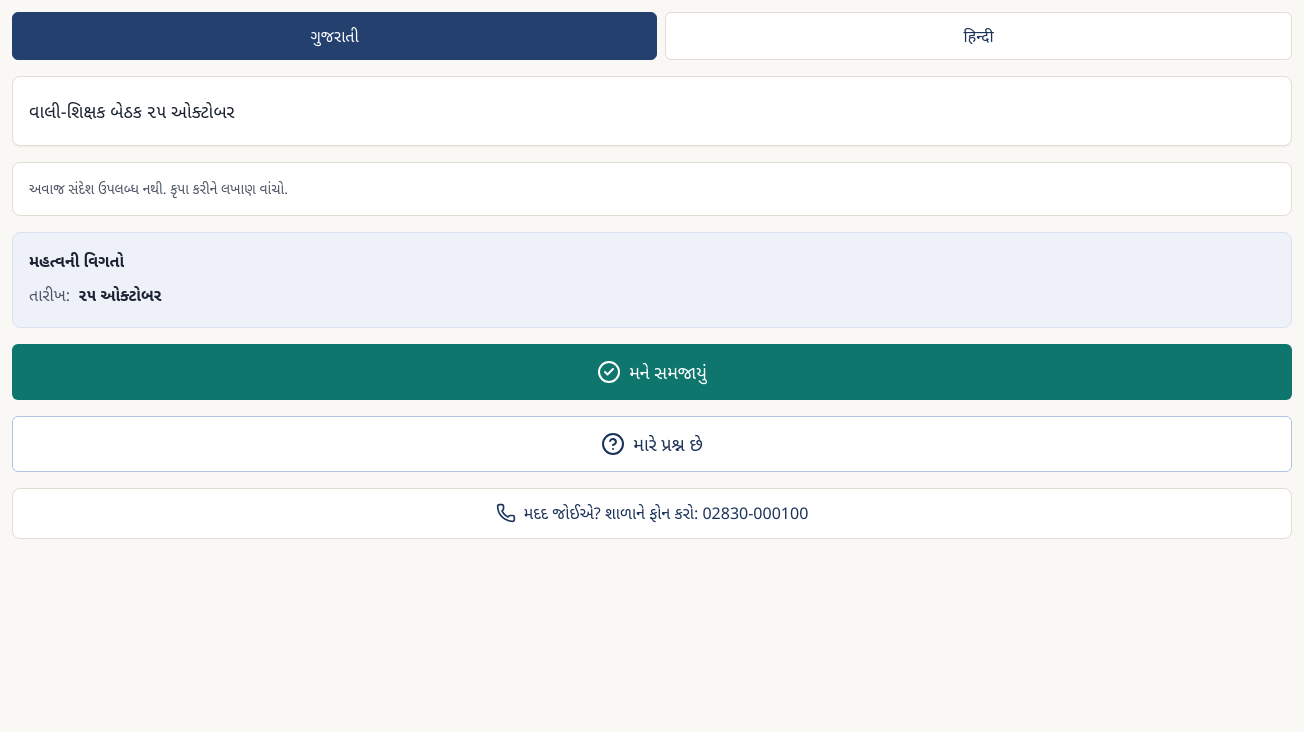
Test: ParentMessageView › opens in the family's language and switches language on tap
Check: the text "વાલી-શિક્ષક બેઠક ૨૫ ઓક્ટોબર" is shown, box 29,99 -> 235,123
Check: the text "૨૫ ઓક્ટોબર" is shown, box 78,281 -> 161,311
Click the tab "हिन्दी" at (979, 36), box 665,12 -> 1292,60
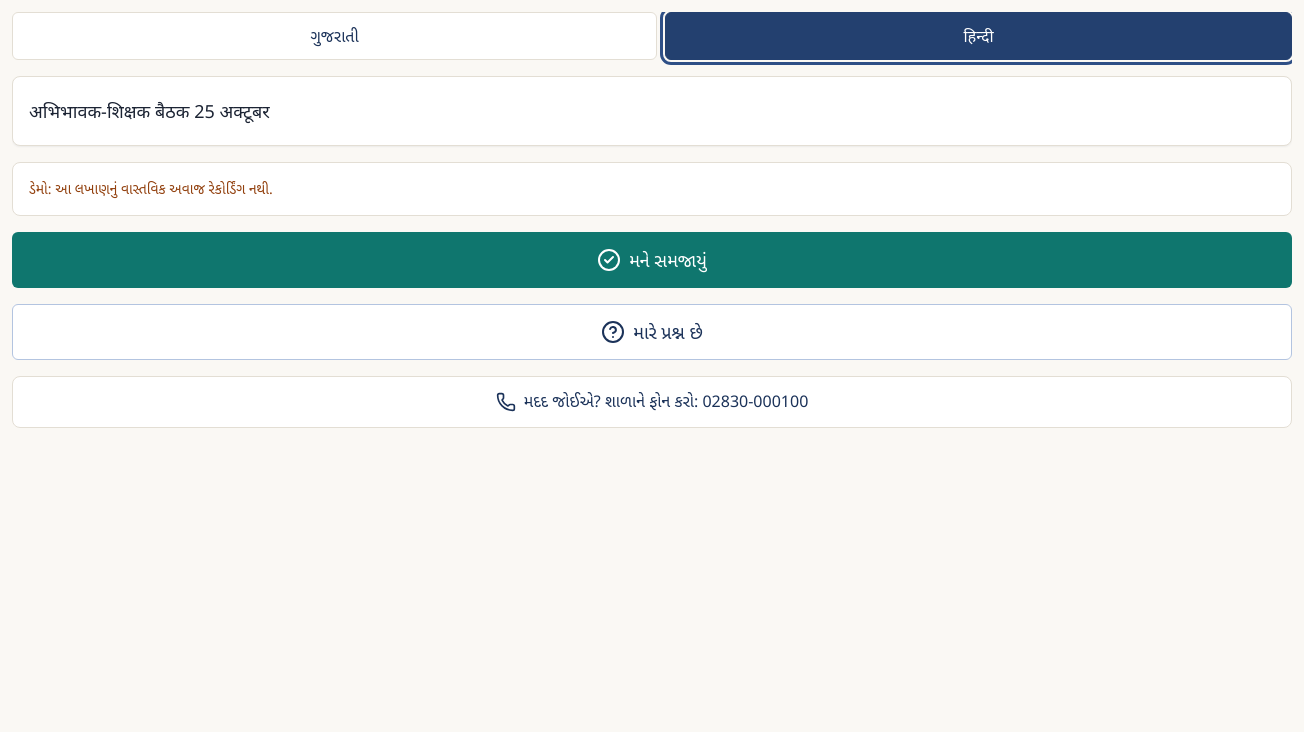
Check: the text "अभिभावक-शिक्षक बैठक 25 अक्टूबर" is shown, box 29,99 -> 270,123
Check: the text "ડેમો: આ લખાણનું વાસ્તવિક અવાજ રેકોર્ડિંગ નથી." is shown, box 29,179 -> 273,198
